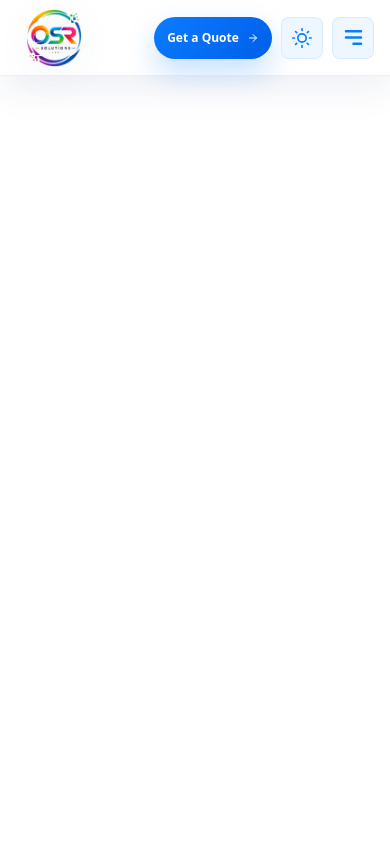
Test: mobile navigation opens, navigates, and removes the overlay after closing
The image size is (390, 844).
What coordinates should you click on to do the following:
click the button named "toggle navigation menu"
I would click on:
 (353, 38)
Its box is [332, 16, 374, 58].
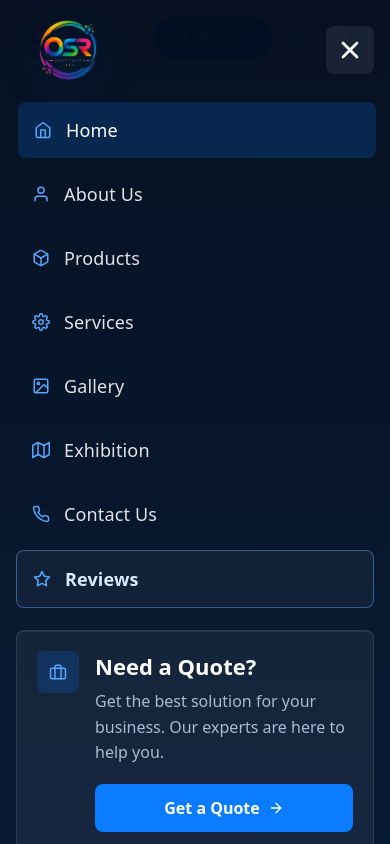
Expected: the element with class "show" is shown
What coordinates should you click on to do the following:
click the button "Products"
I would click on:
 (102, 258)
Its box is [16, 230, 374, 286].
Wait 400 ms
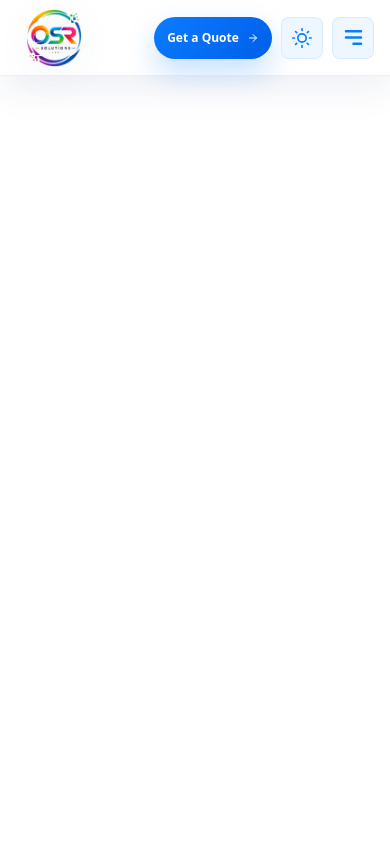
Expected: the element with class "mobile-menu" is gone
